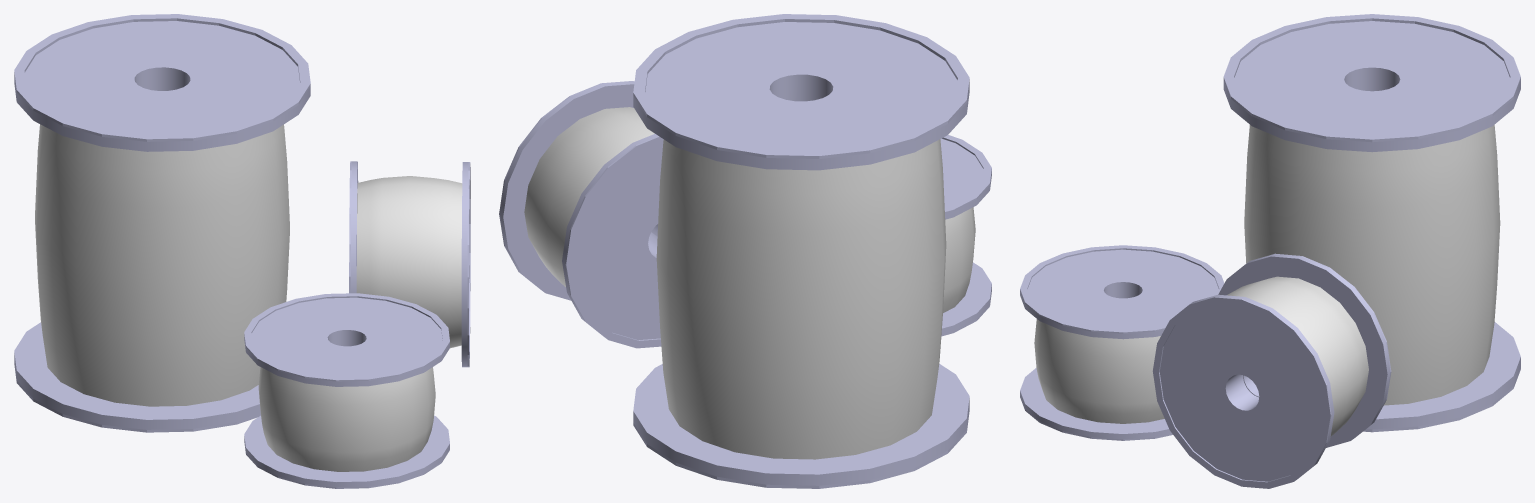
File: ItemThreadC.fbx
The picture shows the model from 3 angles, left to right: view 1: azimuth 30°, elevation 25°; view 2: azimuth 150°, elevation 25°; view 3: azimuth 270°, elevation 25°; orthographic projection. The views are drawn at different scales.
Parts seen in each view (by area): view 1: Thread1, Bobbin1u, Bobbin2u, Thread2, Thread3, Bobbin1d, Bobbin2d, Bobbin3u, Bobbin3d; view 2: Thread1, Bobbin1u, Bobbin3d, Bobbin1d, Thread3, Bobbin3u, Bobbin2u, Thread2, Bobbin2d; view 3: Thread1, Bobbin1u, Bobbin3u, Bobbin2u, Thread2, Thread3, Bobbin3d, Bobbin1d, Bobbin2d.
Boxes of the visible parts, left/top/right/bottom form: Thread1: left=35, top=124, right=289, bottom=406; Bobbin1u: left=14, top=14, right=310, bottom=151; Bobbin2u: left=244, top=293, right=449, bottom=386; Thread2: left=258, top=367, right=435, bottom=471; Thread3: left=356, top=176, right=462, bottom=348; Bobbin1d: left=14, top=322, right=260, bottom=432; Bobbin2d: left=244, top=415, right=449, bottom=488; Bobbin3u: left=461, top=162, right=470, bottom=367; Bobbin3d: left=349, top=161, right=358, bottom=293; Thread1: left=656, top=139, right=946, bottom=459; Bobbin1u: left=633, top=14, right=969, bottom=170; Bobbin3d: left=562, top=134, right=663, bottom=348; Bobbin1d: left=633, top=364, right=969, bottom=488; Thread3: left=524, top=107, right=654, bottom=286; Bobbin3u: left=499, top=81, right=634, bottom=300; Bobbin2u: left=940, top=135, right=991, bottom=219; Thread2: left=943, top=207, right=975, bottom=312; Bobbin2d: left=941, top=262, right=991, bottom=336; Thread1: left=1244, top=125, right=1500, bottom=405; Bobbin1u: left=1223, top=14, right=1520, bottom=152; Bobbin3u: left=1152, top=294, right=1334, bottom=488; Bobbin2u: left=1020, top=245, right=1224, bottom=339; Thread2: left=1034, top=319, right=1164, bottom=423; Thread3: left=1227, top=276, right=1368, bottom=436; Bobbin3d: left=1218, top=253, right=1391, bottom=447; Bobbin1d: left=1363, top=322, right=1520, bottom=432; Bobbin2d: left=1020, top=368, right=1172, bottom=440.
Bounding box in the file's own units: 6.24 × 4.2 × 6.51.
